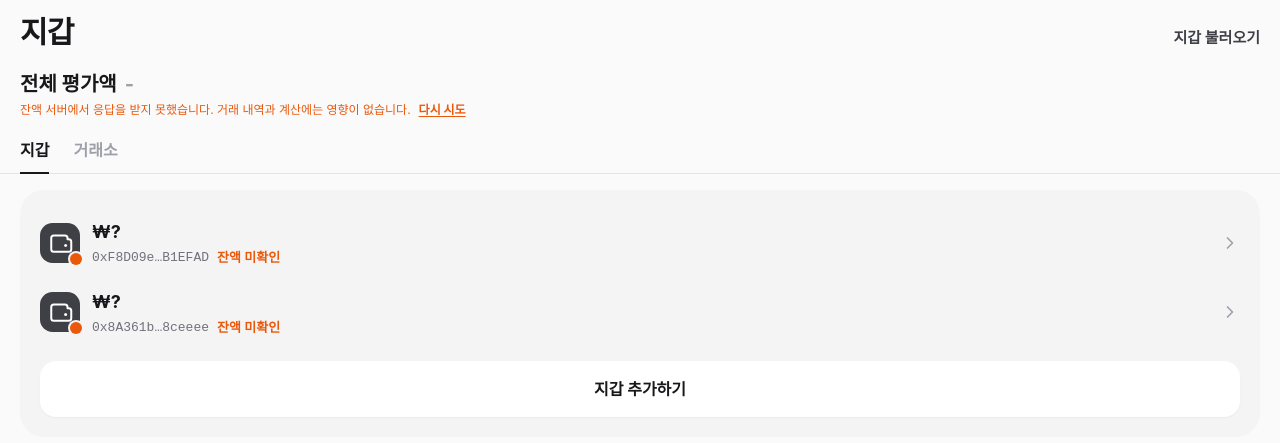
Scenario: wallets list (지갑 탭) › keeps the wallet list when the balance read fails: headline says why, rows say ₩? and 잔액 미확인
Expected: the text "잔액 서버에서 응답을 받지 못했습니다. 거래 내역과 계산에는 영향이 없습니다." is shown, left=20, top=102, right=411, bottom=118
Expected: the number of links named "포트폴리오 열기" is 2, left=40, top=210, right=1240, bottom=276; left=40, top=280, right=1240, bottom=345
Click the button "다시 시도".
click(442, 110)  # box left=419, top=102, right=466, bottom=118
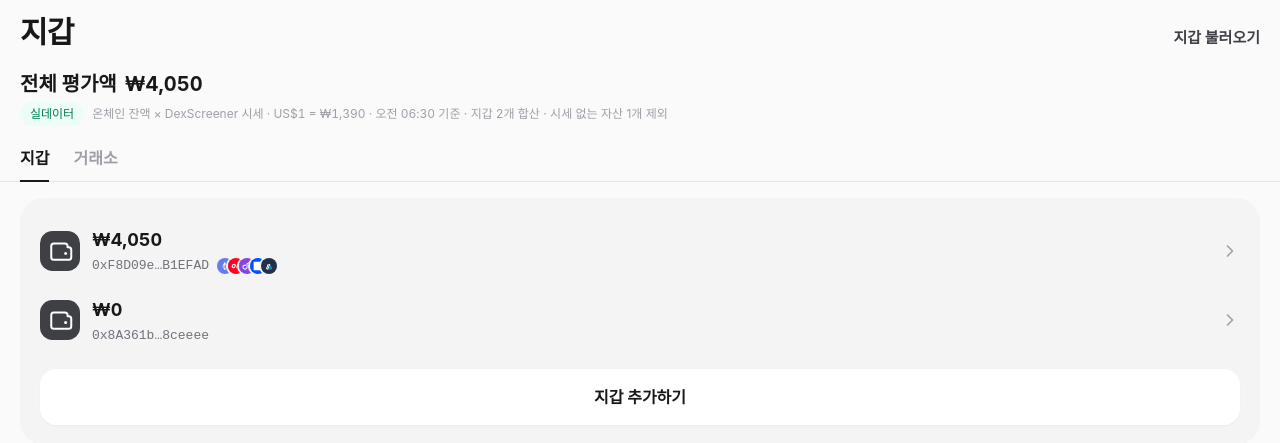
Now the text "₩4,050" next to "전체 평가액" is shown, box left=125, top=72, right=203, bottom=96
